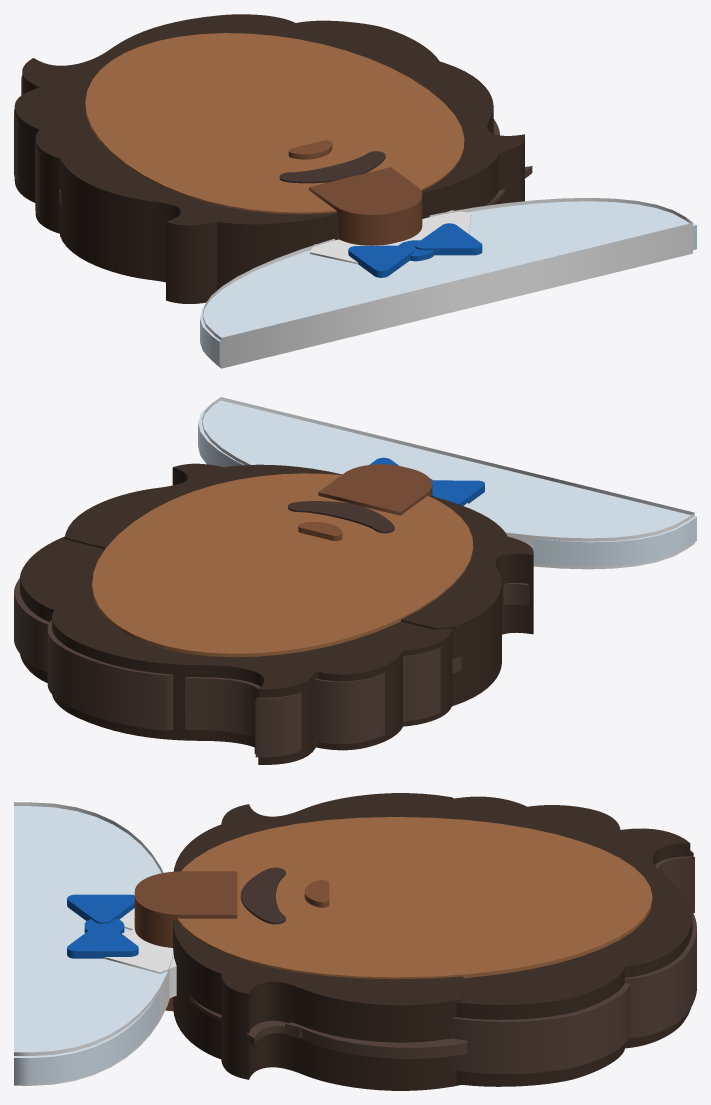
The model's file is emoji_u1f9d1_1f3fe_200d_1f4bc.glb.
The picture shows the model from 3 angles, top to bottom: view 1: azimuth 30°, elevation 25°; view 2: azimuth 150°, elevation 25°; view 3: azimuth 270°, elevation 25°; orthographic projection. The views are drawn at different scales.
Parts seen in each view (by area): view 1: emoji_u1f9d1_1f3fe_200d_1f4bc; view 2: emoji_u1f9d1_1f3fe_200d_1f4bc; view 3: emoji_u1f9d1_1f3fe_200d_1f4bc.
Boxes of the visible parts, x1,y1,x2,y2 form: emoji_u1f9d1_1f3fe_200d_1f4bc: (14, 14, 696, 368); emoji_u1f9d1_1f3fe_200d_1f4bc: (14, 397, 696, 764); emoji_u1f9d1_1f3fe_200d_1f4bc: (14, 793, 696, 1090).
Size of the model in its own units: 0.0292 by 0.0054 by 0.0333.
